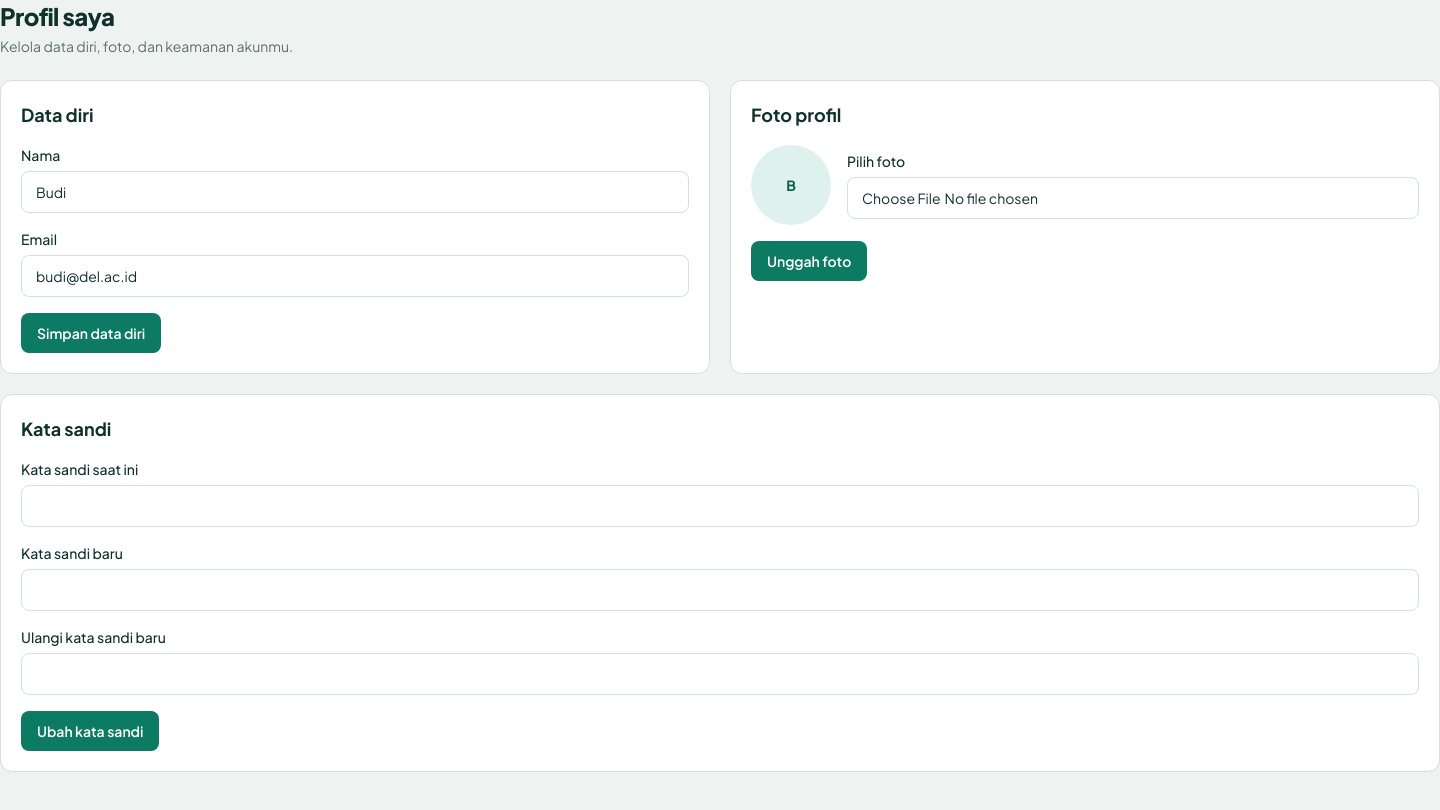
ProfilePage › kata sandi › memvalidasi seluruh kolom
Type "123" into the password field labelled "Kata sandi baru" at (720, 590), box [21,569,1419,611]
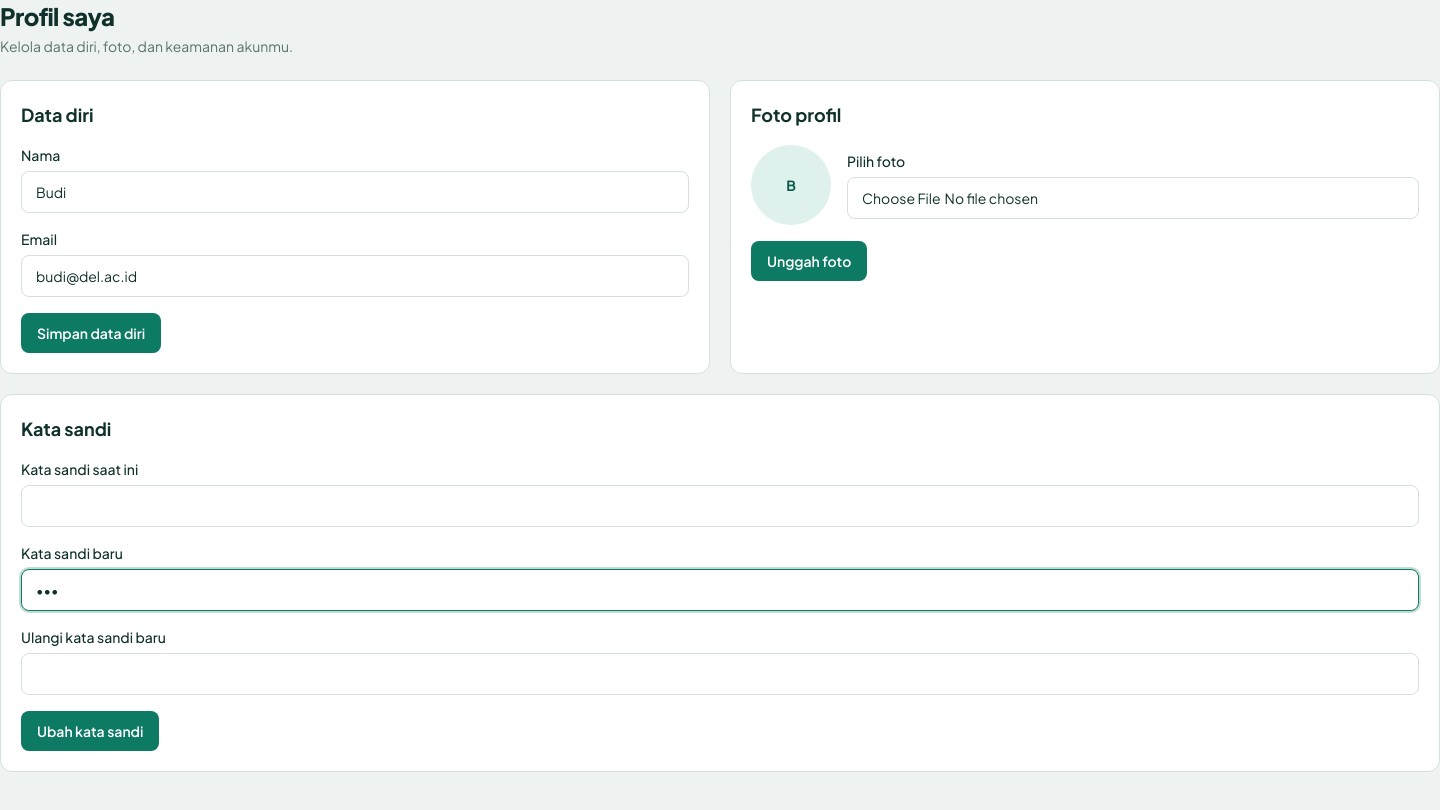
Type "456" into the password field labelled "Ulangi kata sandi baru" at (720, 674), box [21,653,1419,695]
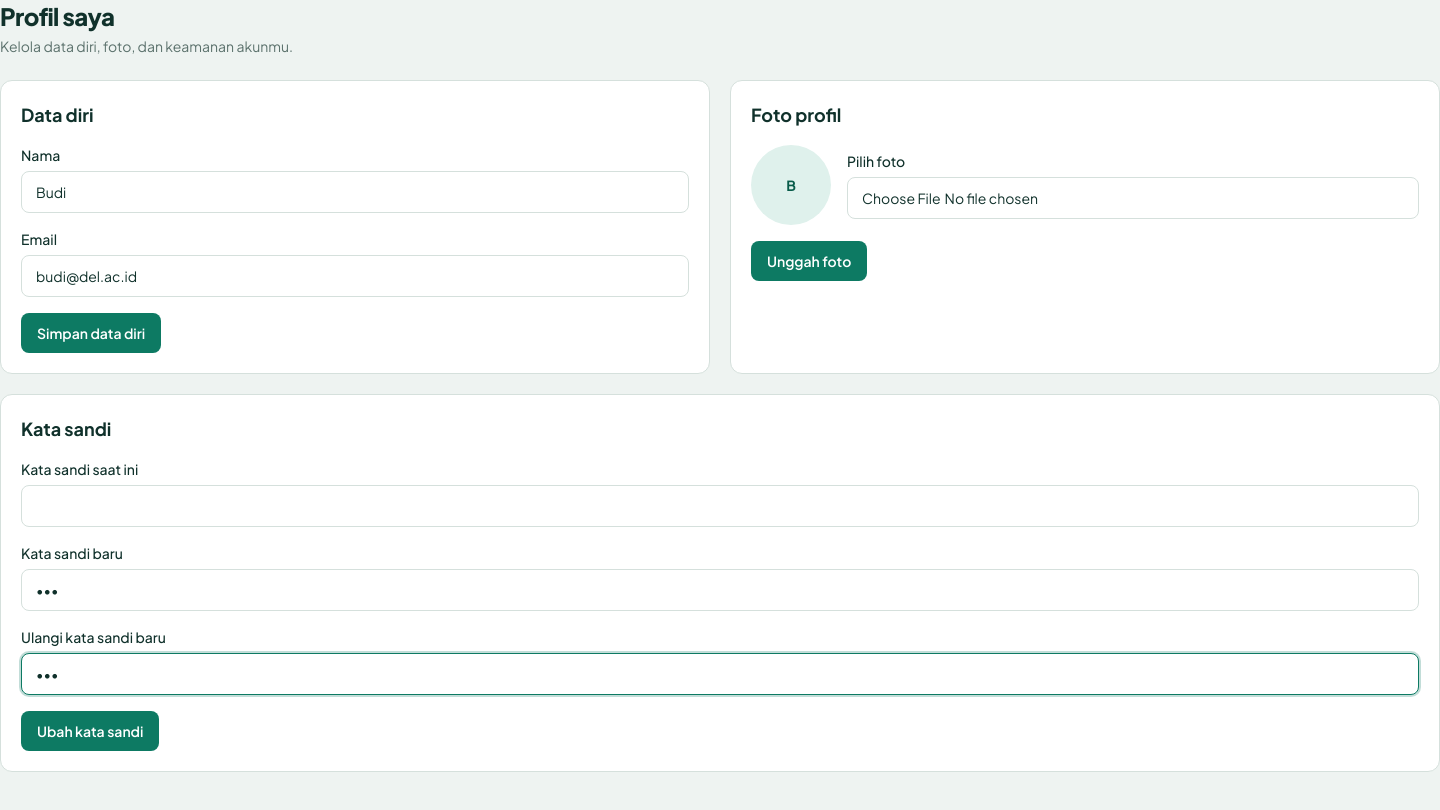
Click the button "Ubah kata sandi" at (90, 731), box [21,711,159,751]
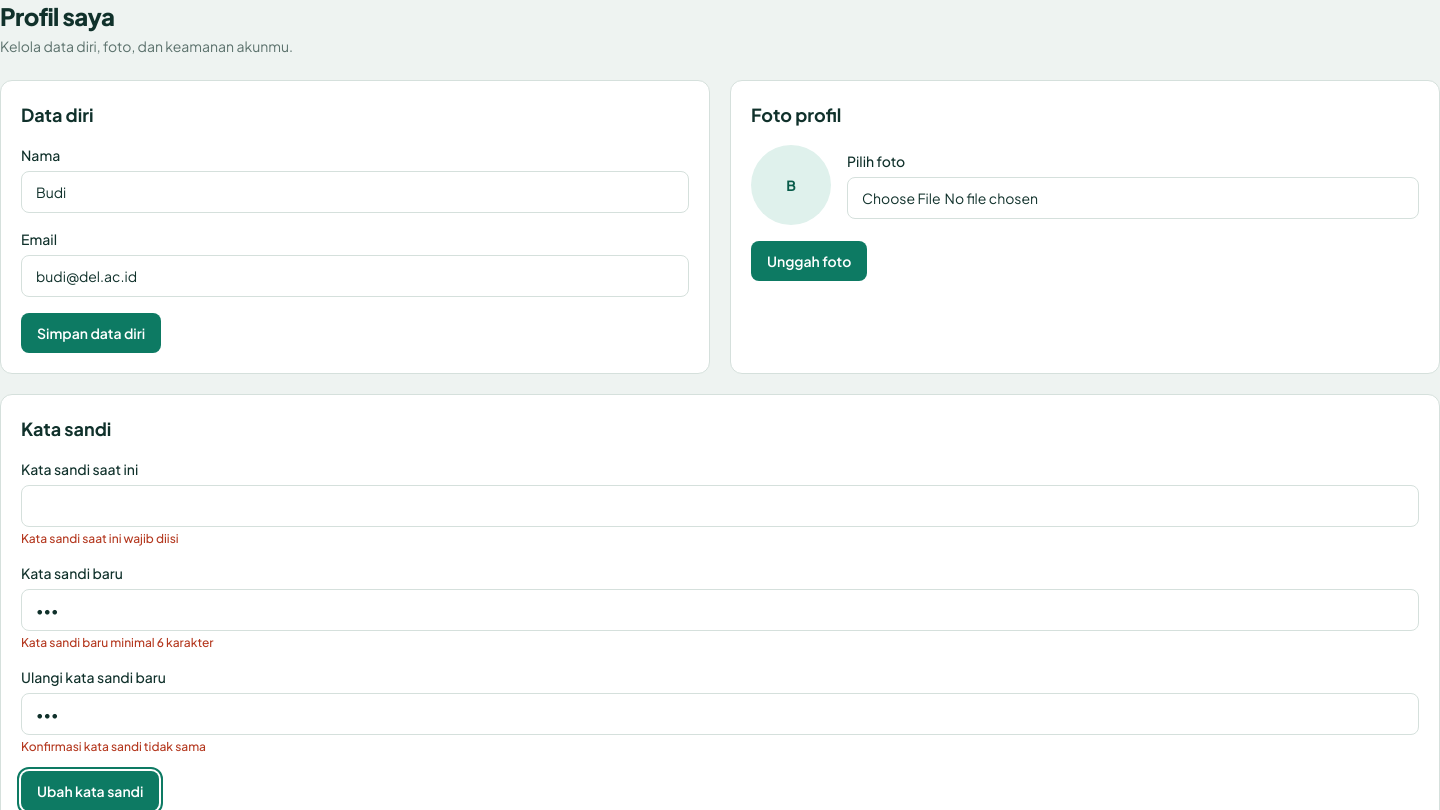
expect the text "Kata sandi saat ini wajib diisi" is shown: met, box [21,531,179,546]
expect the text "Kata sandi baru minimal 6 karakter" is shown: met, box [21,635,214,650]
expect the text "Konfirmasi kata sandi tidak sama" is shown: met, box [21,739,206,754]
